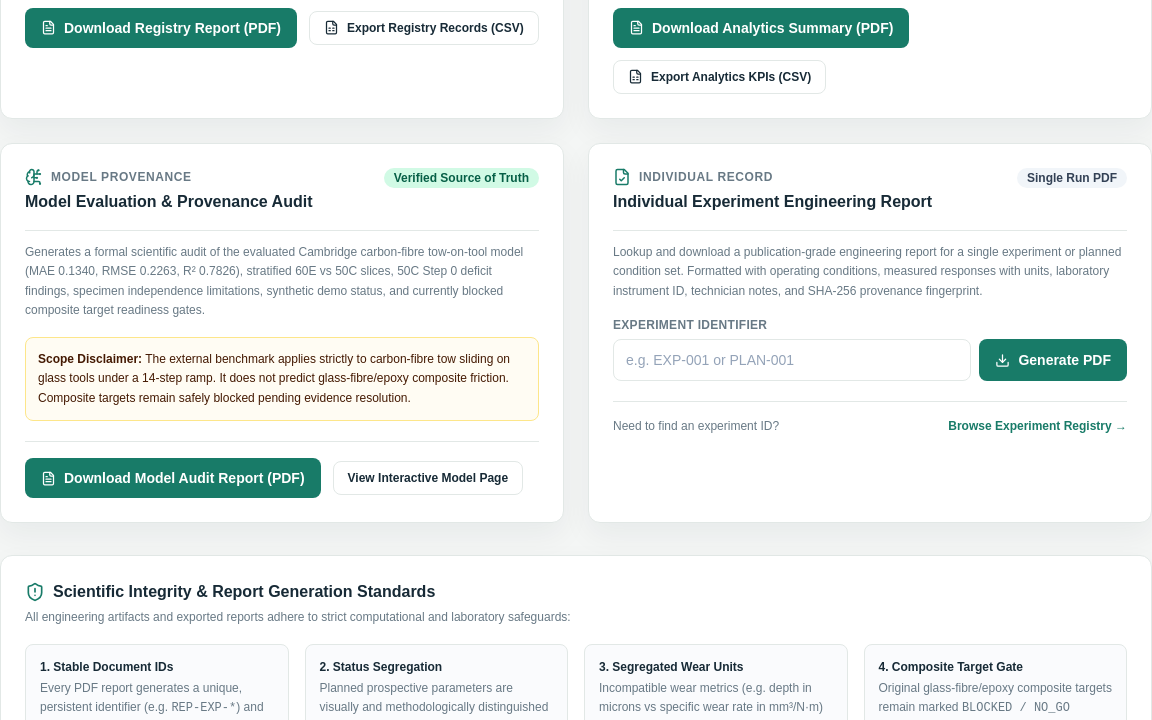
ReportsPage (Engineering Reports & Export) › shows an error when generating single experiment PDF with empty ID
This screenshot has width=1152, height=720.
(page scrolled)
What coordinates should you click on to do the following:
click the button "Generate PDF"
I would click on:
 (1053, 360)
Its box is [979,339,1127,381].
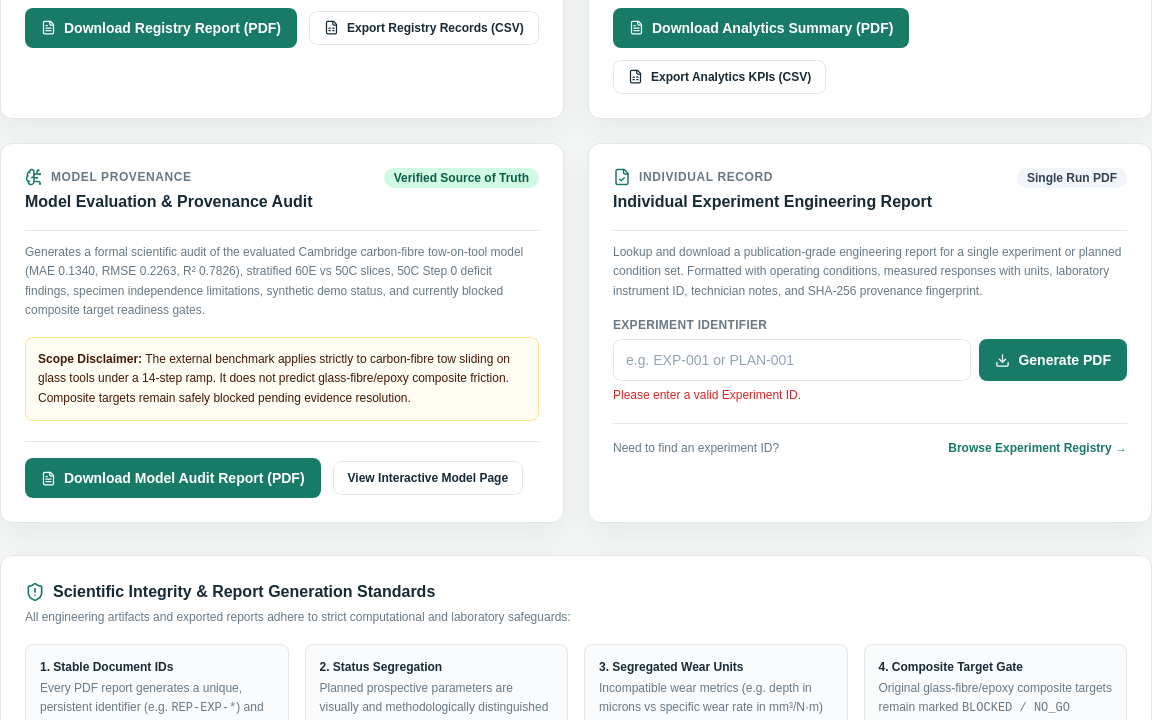
Expected: the text "Please enter a valid Experiment ID." is shown, [613,388,801,402]
